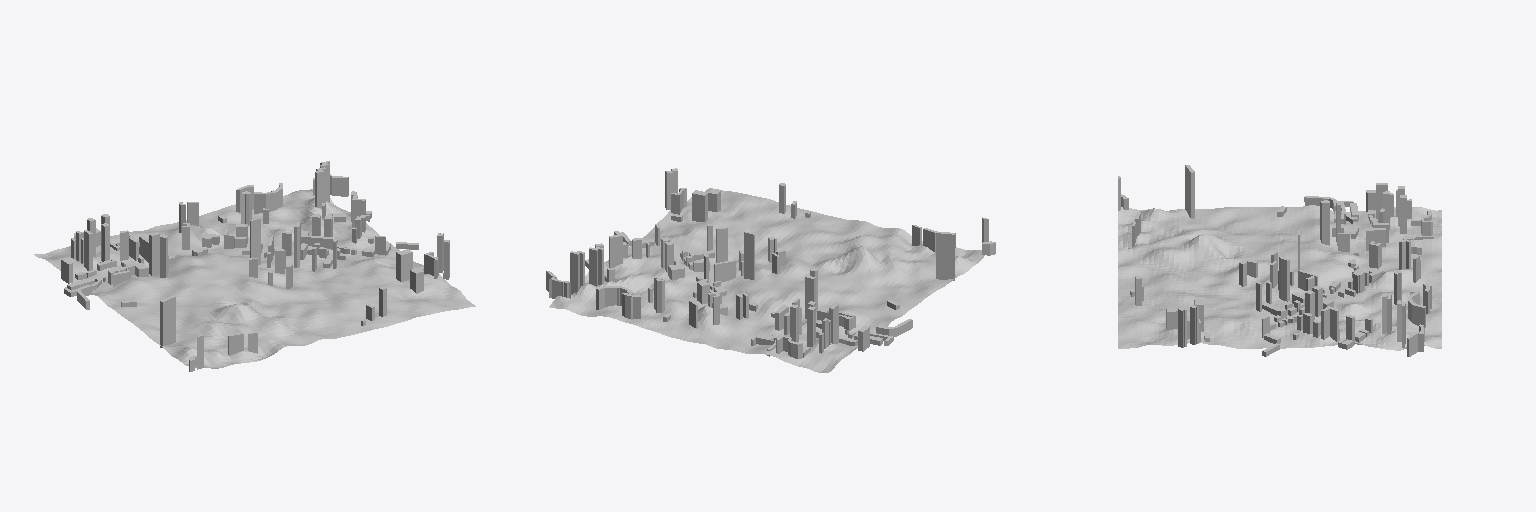
Rendered from terrain-1.obj.
3 renders of one model, left to right at view 1: azimuth 30°, elevation 25°; view 2: azimuth 150°, elevation 25°; view 3: azimuth 270°, elevation 25°, orthographic.
Visible parts, largest first — view 1: 25836.16263.15.obj; view 2: 25836.16263.15.obj; view 3: 25836.16263.15.obj.
Part boxes in pixels (x1,y1,x2,y2): 25836.16263.15.obj: (34,161,475,371); 25836.16263.15.obj: (546,168,995,372); 25836.16263.15.obj: (1118,165,1441,356).
Size of the model in its own units: 2.24 by 0.3765 by 2.